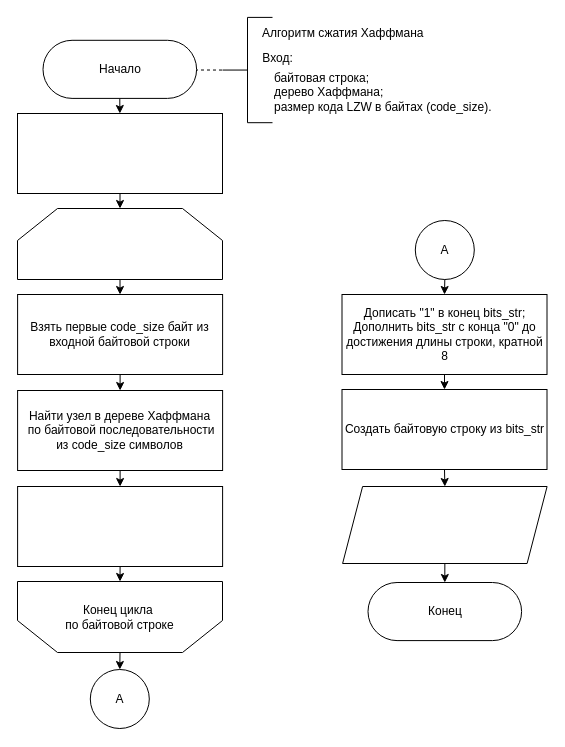
This 565x747 diagram has some shape labels left out. The centre of each missing label's shape, as x and y in pixels:
Байтовая строка: (444,525)
Добавить к строке bits_str значение найденного узла: (120,526)
Пока байтовая строка не пуста: (119,244)
Создать пустую битовую строку (bits_str): (119,153)
